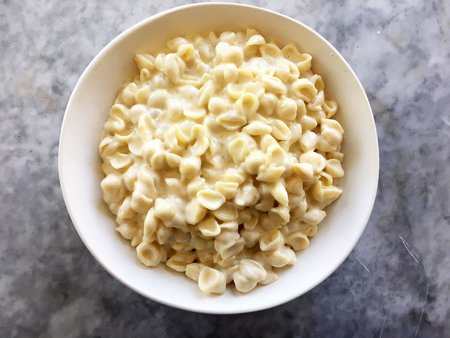cheese: (190, 86, 276, 190), (265, 152, 326, 251), (140, 130, 206, 205)
